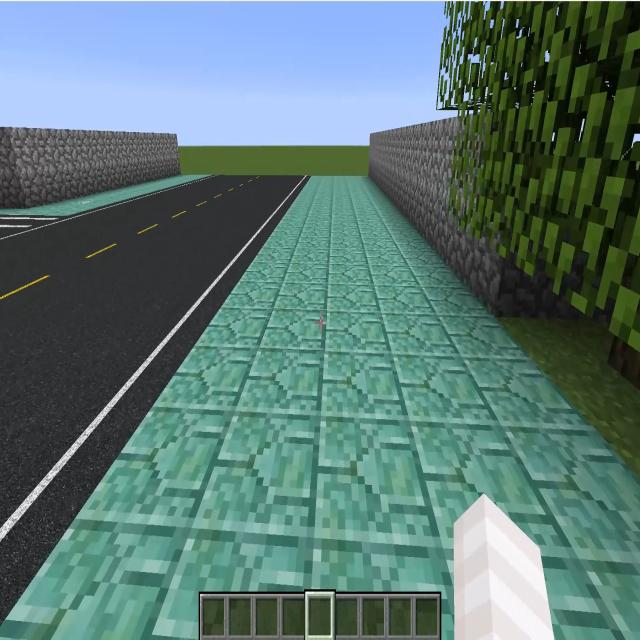crosswalk: (0, 215, 58, 237)
road: (0, 176, 302, 524)
sidewalk: (0, 177, 640, 639), (6, 175, 208, 219)
